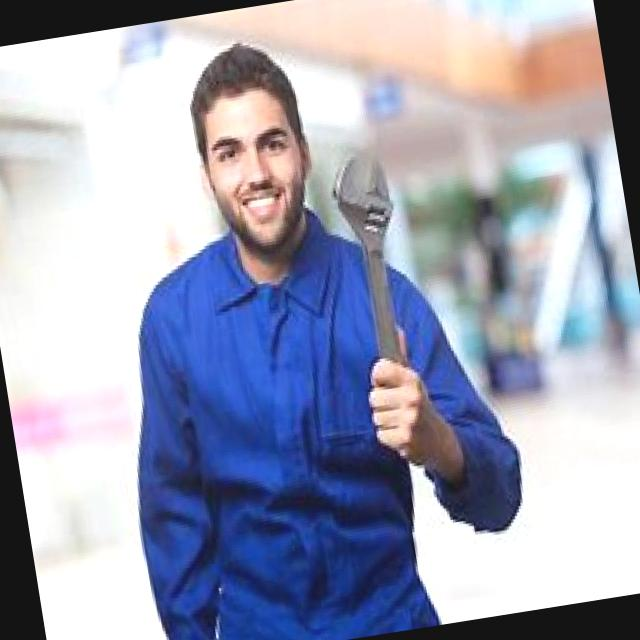wrench: (333, 154, 405, 362)
